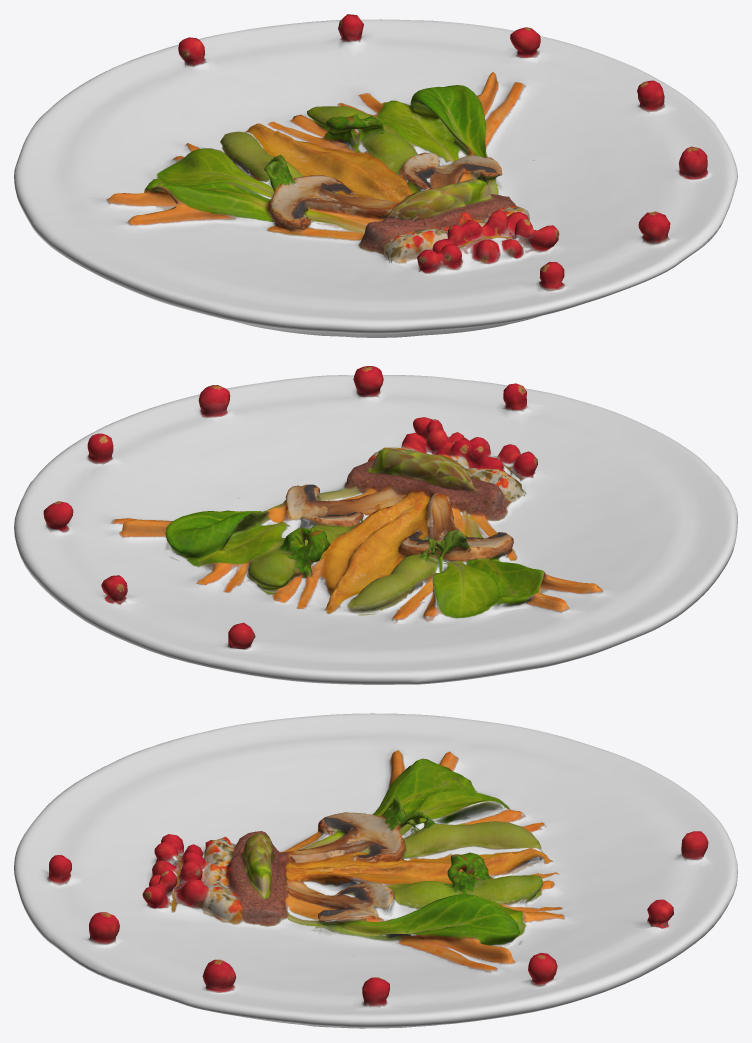
File: 06_Gastro vegetable.glb
The picture shows the model from 3 angles, top to bottom: view 1: azimuth 30°, elevation 25°; view 2: azimuth 150°, elevation 25°; view 3: azimuth 270°, elevation 25°; orthographic projection.
Parts seen in each view (by area): view 1: Final; view 2: Final; view 3: Final.
Part boxes in pixels (bbox=[...]): Final: bbox=[14, 14, 737, 337]; Final: bbox=[14, 366, 737, 684]; Final: bbox=[14, 713, 737, 1028].
Size of the model in its own units: 0.1989 by 0.0198 by 0.1988.
Materials: 1 (1 with a texture image).
